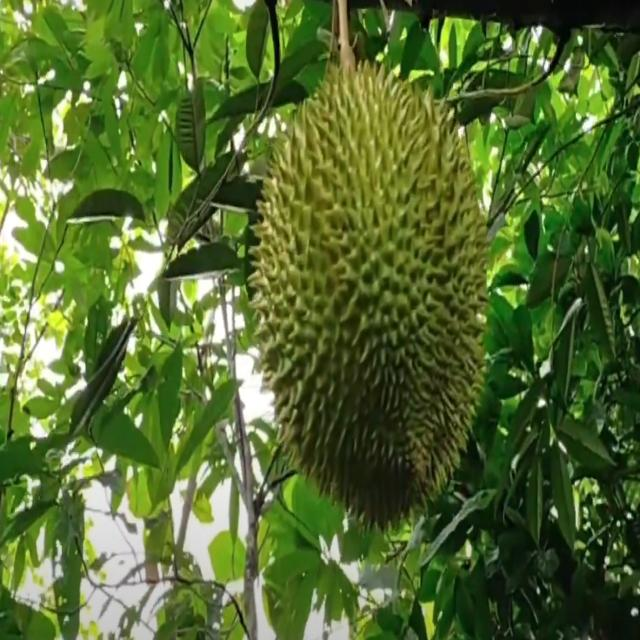immature: (246, 69, 490, 540)
